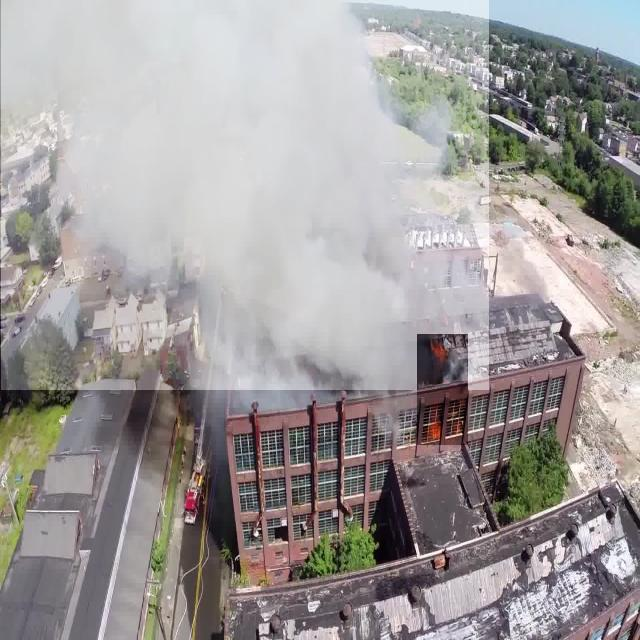Fire: (417, 334, 468, 445)
Smoke: (1, 0, 489, 390)
